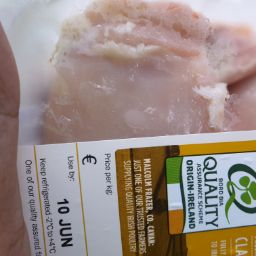Chicken Thigh Fillets: (53, 5, 255, 126)
